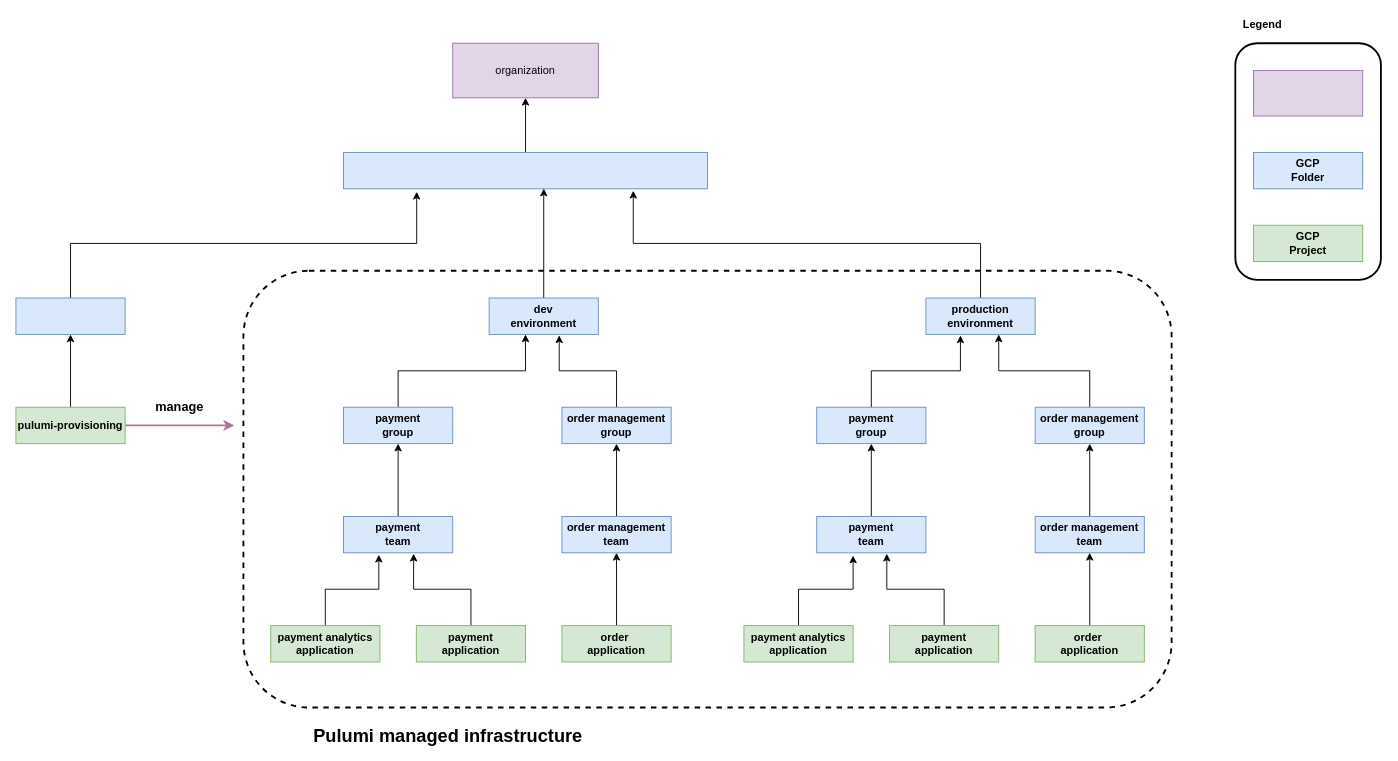
The diagram is 1398 pixels wide and 761 high, and some of its shapes have lost their labels. Each missing label, with the box of its shape:
engineering organization: (343, 152, 708, 189)
GSuite Organization: (1253, 70, 1363, 116)
pulumi environment: (15, 297, 125, 334)
